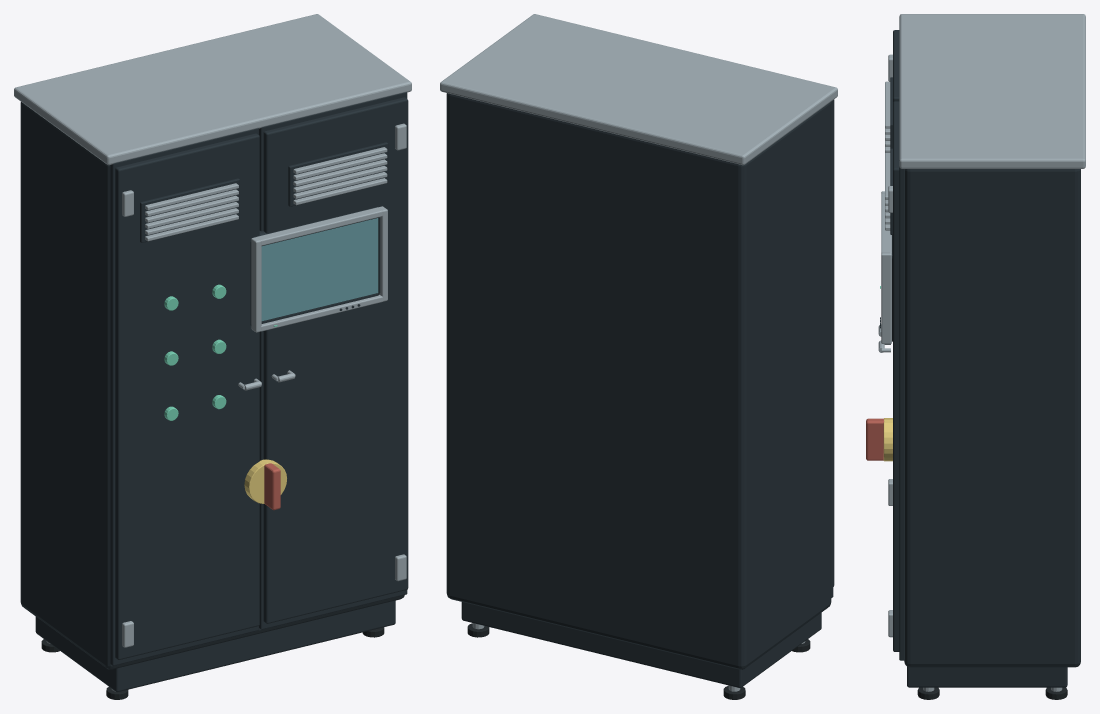
Rendered from RD_ElectricalSwitchgear.fbx.
3 views of the same model, side by side, from view 1: azimuth 30°, elevation 25°; view 2: azimuth 150°, elevation 25°; view 3: azimuth 270°, elevation 25° (orthographic).
Parts seen in each view (by area): view 1: RD_ElectricalSwitchgear; view 2: RD_ElectricalSwitchgear; view 3: RD_ElectricalSwitchgear.
Part boxes in pixels (<box>): RD_ElectricalSwitchgear: <box>14,14,411,699</box>; RD_ElectricalSwitchgear: <box>440,14,837,699</box>; RD_ElectricalSwitchgear: <box>866,14,1085,699</box>.
Bounding box in the file's own units: 128 × 222 × 80.75.
